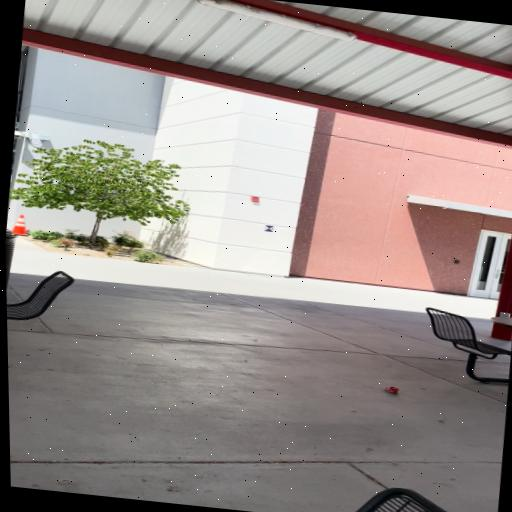target2: (263, 224, 275, 232)
